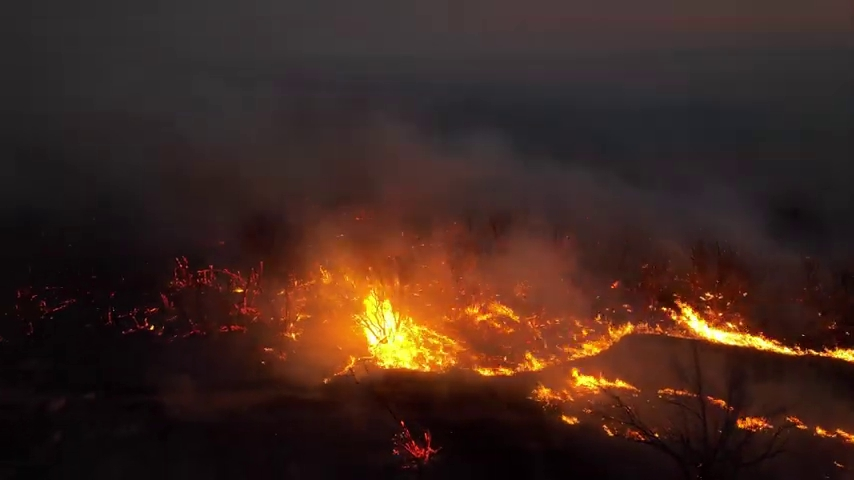forest_fire: (665, 302, 853, 363), (356, 291, 460, 371), (570, 324, 682, 359), (533, 367, 640, 401), (473, 353, 556, 376), (785, 416, 853, 443), (738, 416, 775, 431), (657, 387, 695, 397)
